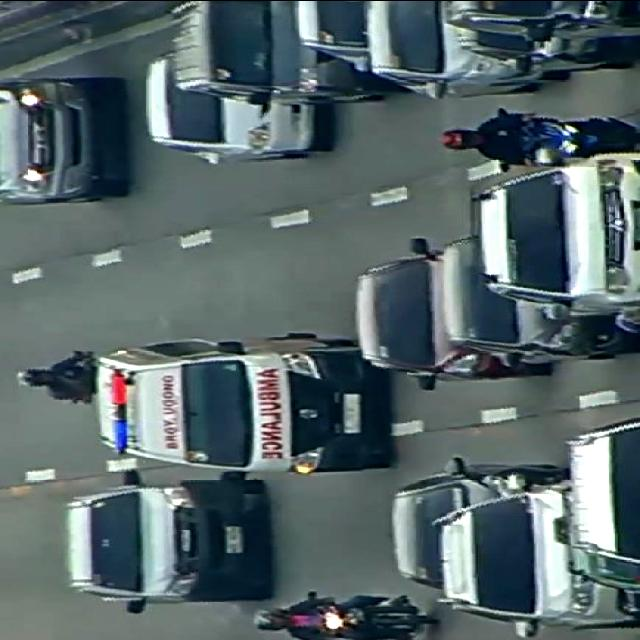emergency: (94, 332, 393, 472)
